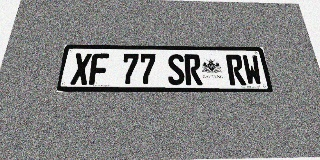7: (120, 54, 139, 85), (139, 54, 156, 85)
F: (89, 53, 109, 85)
R: (226, 55, 246, 85), (184, 54, 203, 85)
S: (167, 54, 185, 85)
W: (242, 55, 263, 85)
X: (70, 53, 92, 85)
